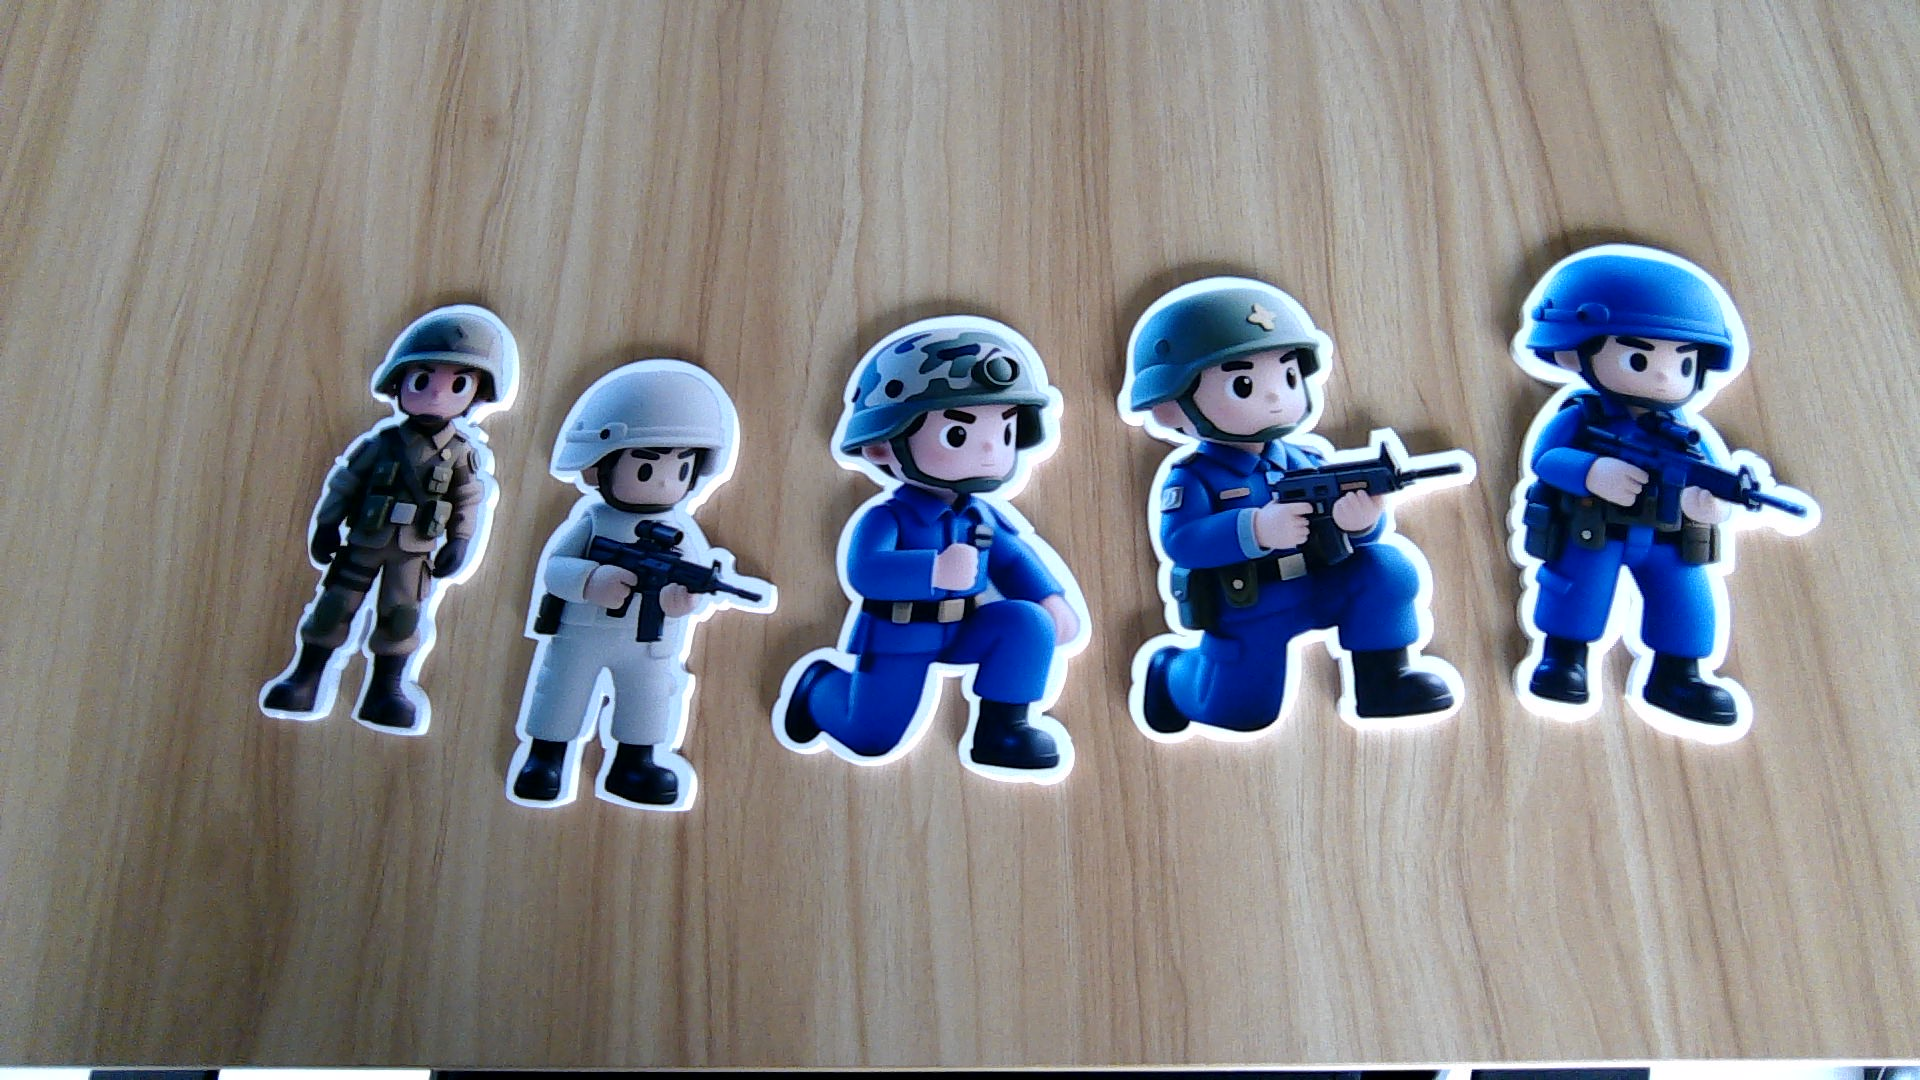人质: (518, 510, 742, 814)
友军: (255, 423, 497, 735)
敌人2: (1509, 400, 1822, 750), (1118, 442, 1477, 731), (770, 501, 1102, 783)
